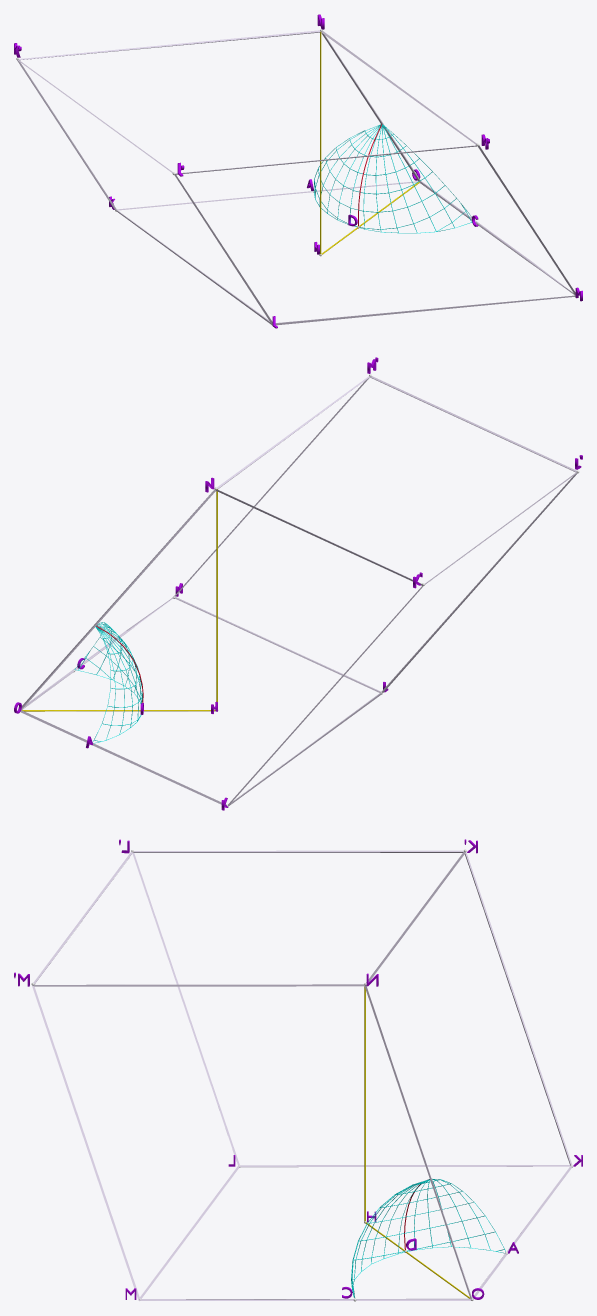
3 views of the same model, one above another, from view 1: azimuth 30°, elevation 25°; view 2: azimuth 150°, elevation 25°; view 3: azimuth 270°, elevation 25° (orthographic). The views are drawn at different scales.
Parts seen in each view (by area): view 1: Cube, Sphere, Cylinder; view 2: Cube, Sphere; view 3: Cube, Sphere.
Boxes of the visible parts, x1,y1,x2,y2 form: Cube: (17, 30, 575, 325); Sphere: (314, 124, 472, 233); Cylinder: (320, 31, 321, 254); Cube: (20, 376, 577, 806); Sphere: (74, 622, 142, 743); Cube: (32, 850, 572, 1300); Sphere: (351, 1179, 505, 1297).
Bounding box in the file's own units: 3.83 × 2.12 × 4.35.
